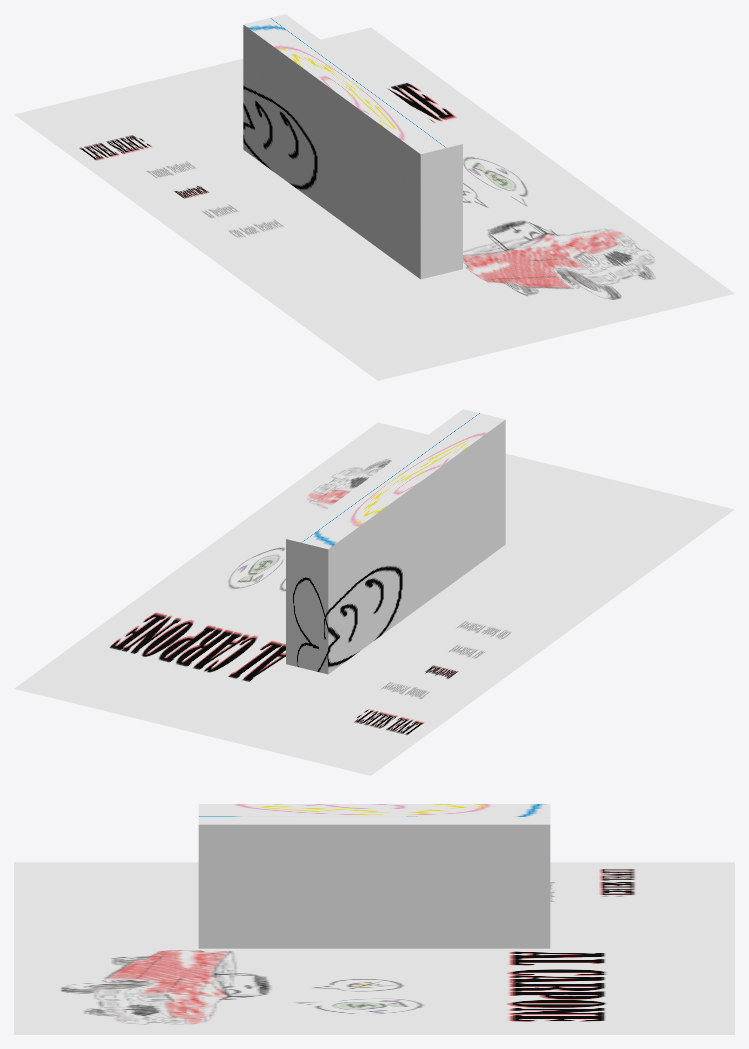
File: testMap.obj
The picture shows the model from 3 angles, top to bottom: view 1: azimuth 30°, elevation 25°; view 2: azimuth 150°, elevation 25°; view 3: azimuth 270°, elevation 25°; orthographic projection.
Visible parts, largest first — view 1: Plane_Plane.002, Cube_Cube.002; view 2: Plane_Plane.002, Cube_Cube.002; view 3: Plane_Plane.002, Cube_Cube.002.
Part boxes in pixels (<box>): Plane_Plane.002: <box>14,27,734,380</box>; Cube_Cube.002: <box>243,14,462,279</box>; Plane_Plane.002: <box>14,422,734,775</box>; Cube_Cube.002: <box>286,409,505,674</box>; Plane_Plane.002: <box>14,862,734,1034</box>; Cube_Cube.002: <box>198,804,550,948</box>.
Size of the model in its own units: 16.85 by 8.38 by 29.76.
Materials: 2 (2 with a texture image).
